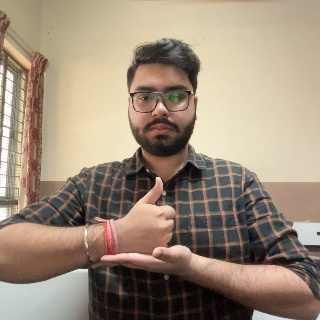Face: (129, 49, 198, 153)
Help: (106, 177, 190, 278)
